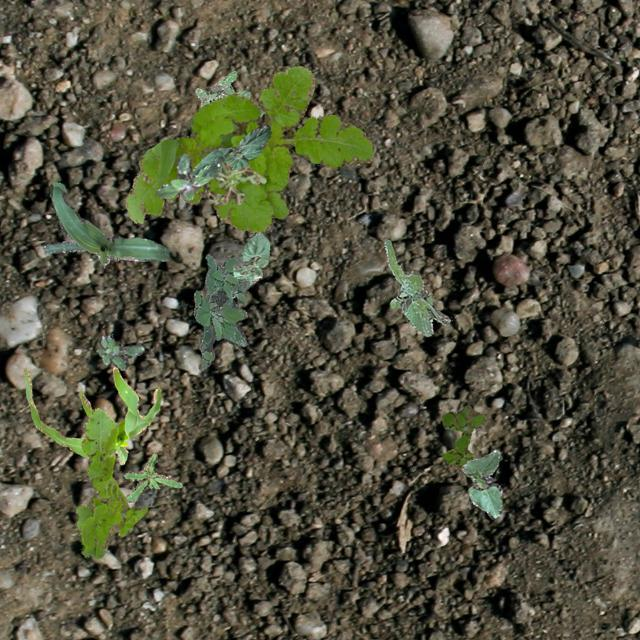crop: (22, 366, 160, 464), (43, 180, 168, 264), (190, 124, 270, 176), (461, 448, 502, 518), (232, 230, 268, 284)
weed: (124, 64, 372, 232), (74, 407, 146, 558), (192, 252, 248, 370), (384, 238, 449, 334), (194, 70, 264, 116), (122, 452, 182, 502), (156, 153, 216, 200), (440, 404, 484, 464), (206, 160, 264, 203), (96, 334, 142, 368)
